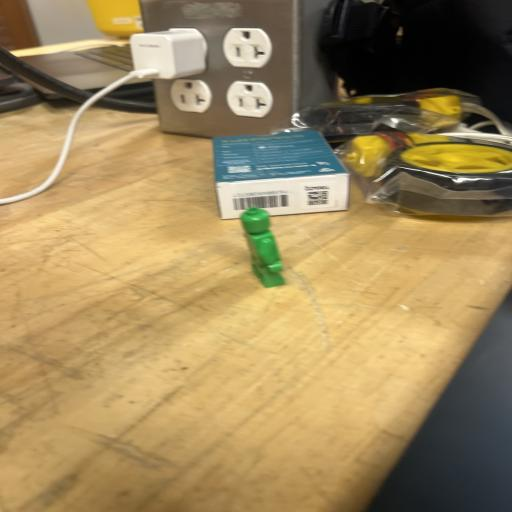green-lego-minifigure-detector: (241, 207, 285, 287)
